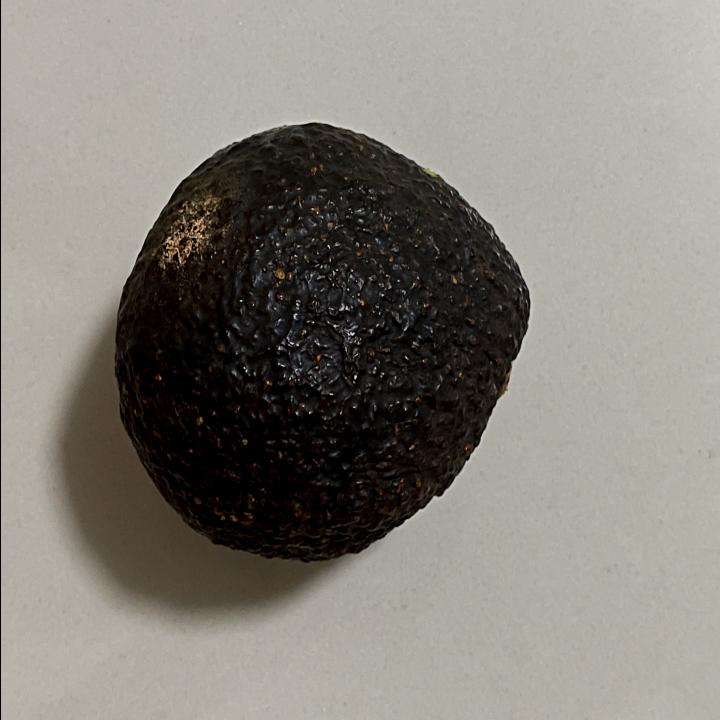Level3: (104, 106, 536, 574)
